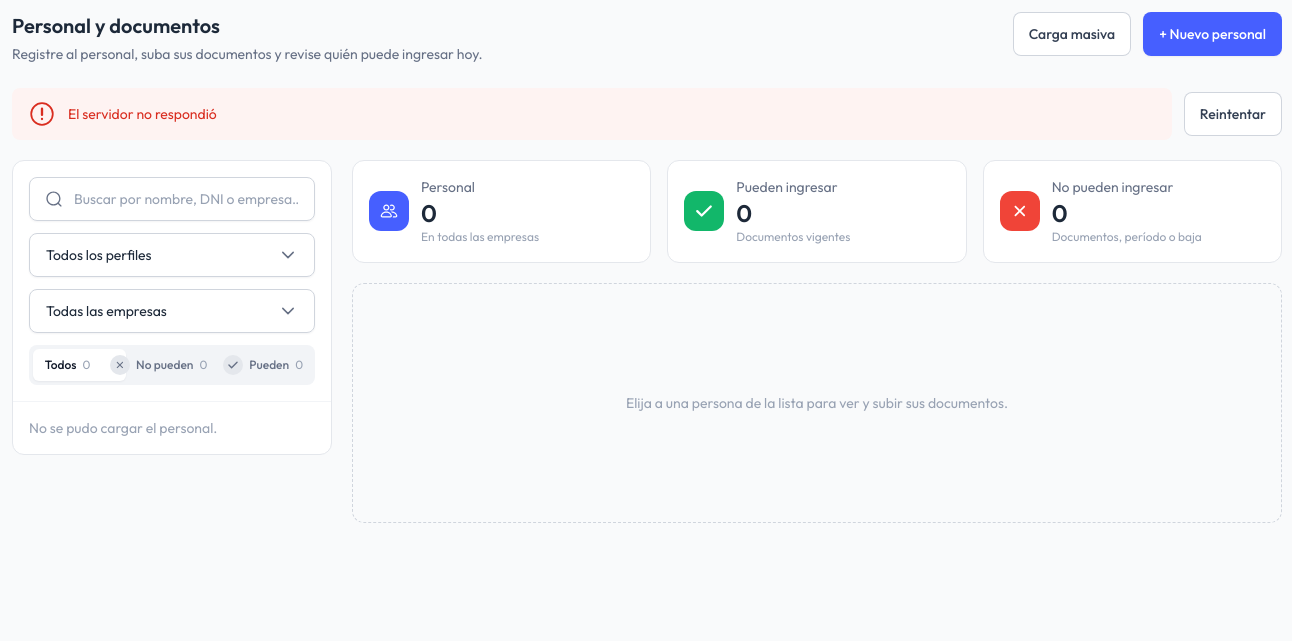
Personal y documentos › si la carga falla, avisa y permite reintentar
expect the text "El servidor no respondió" is shown: met, box [68,104,217,124]
expect the list item "No se pudo cargar el personal." is shown: met, box [29,419,217,437]
Click the button "Reintentar". click: (1233, 114)
box: [1184,92,1282,136]
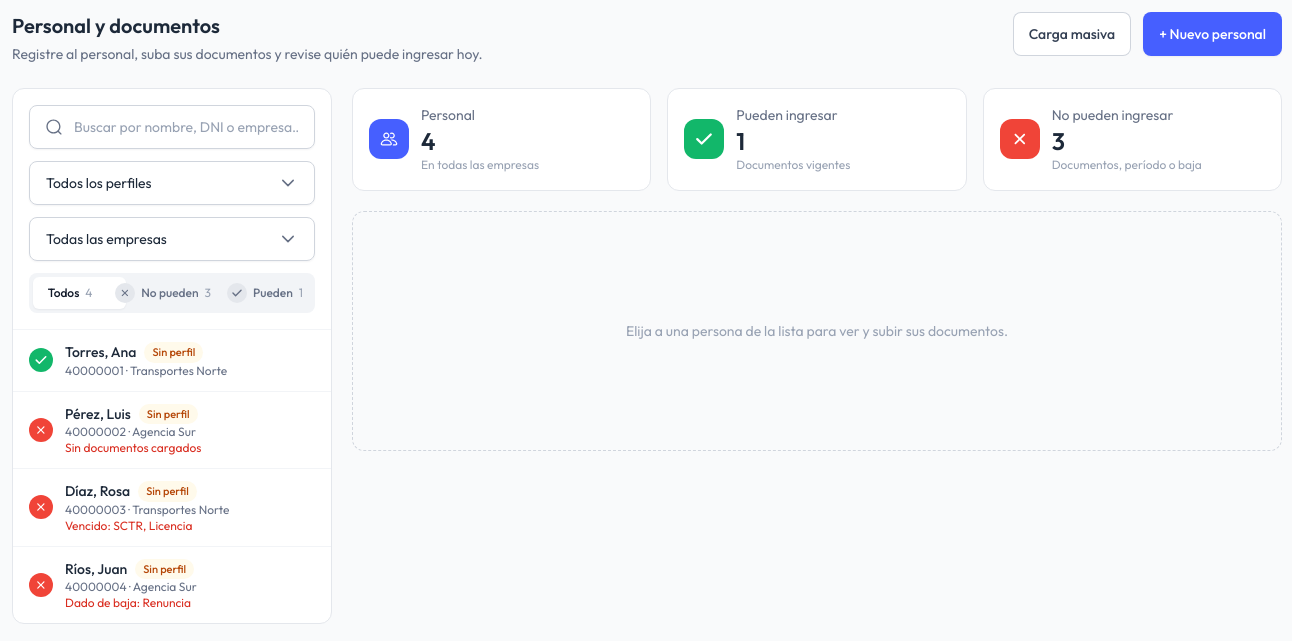
expect the text "Torres, Ana" is shown: met, box [65,342,136,362]
expect the text "El servidor no respondió" is gone: met
